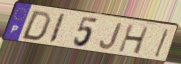5: (72, 16, 101, 49)
D: (19, 10, 52, 43)
H: (117, 23, 151, 56)
I: (47, 13, 67, 45), (153, 28, 171, 59)
J: (98, 22, 123, 51)
